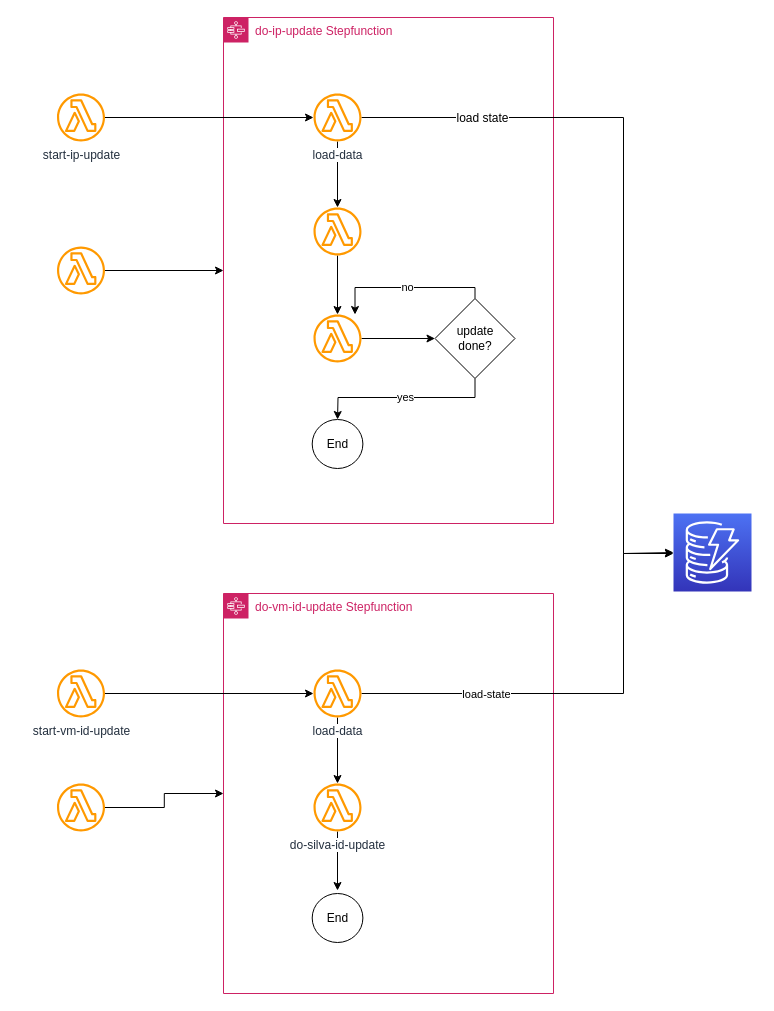
Some shapes in this 774 by 1011 pixel diagram are drawn without their labels. The centre of each missing label's shape, as x and y in pixels:
do-dns-batch-update: the point at 337,231
do-dns-batch-update-verification: the point at 337,338
get-ip-update-status: the point at 80,270
get-vm-id-update-status: the point at 80,807
registration-state: the point at 712,552
